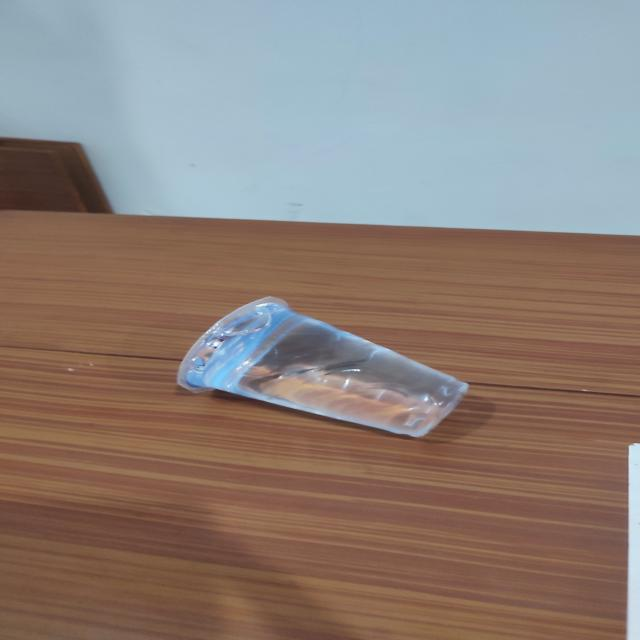air gelas: (162, 290, 490, 444)
